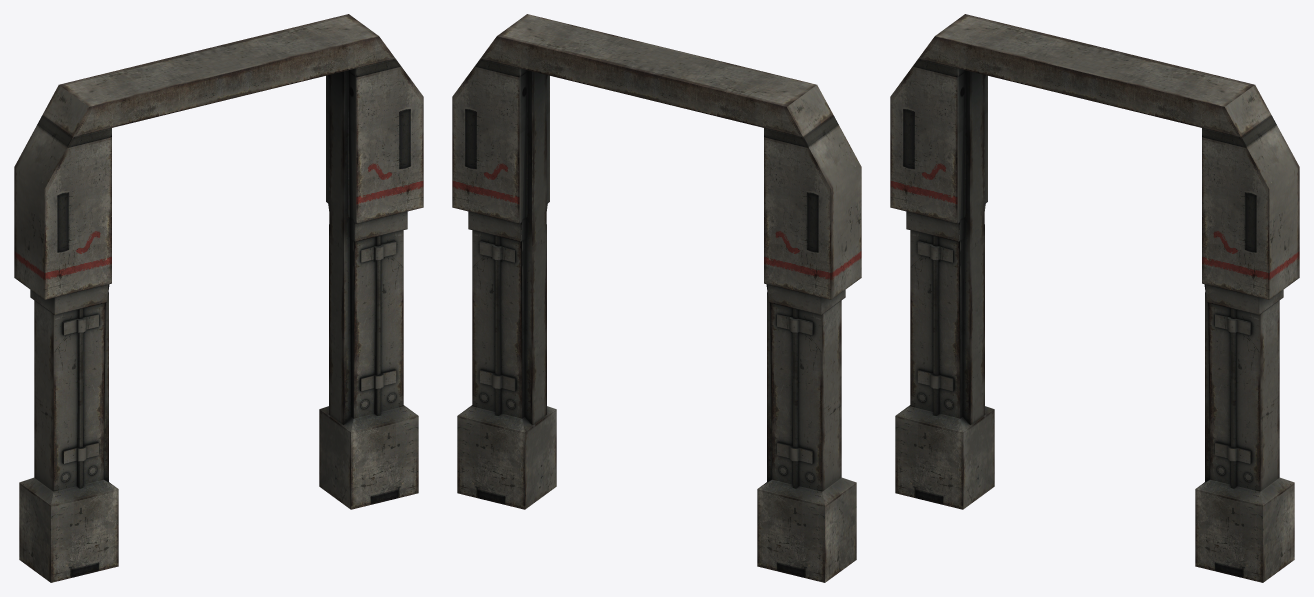
File: exit_flesher_frame.dae
The picture shows the model from 3 angles, left to right: view 1: azimuth 30°, elevation 25°; view 2: azimuth 150°, elevation 25°; view 3: azimuth 330°, elevation 25°; orthographic projection.
Visible parts, largest first — view 1: polymsh1; view 2: polymsh1; view 3: polymsh1.
Boxes of the visible parts, <box> form: polymsh1: <box>14,14,423,582</box>; polymsh1: <box>452,14,861,582</box>; polymsh1: <box>890,14,1299,582</box>.
Bounding box in the file's own units: 249 × 292 × 36.03.
